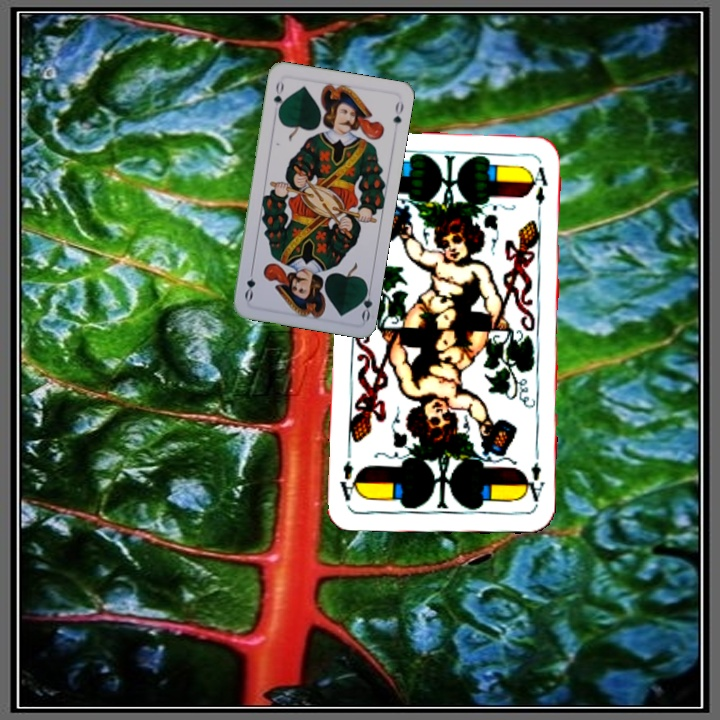EA: (520, 458, 547, 509)
GO: (354, 282, 375, 323), (270, 76, 287, 117)
